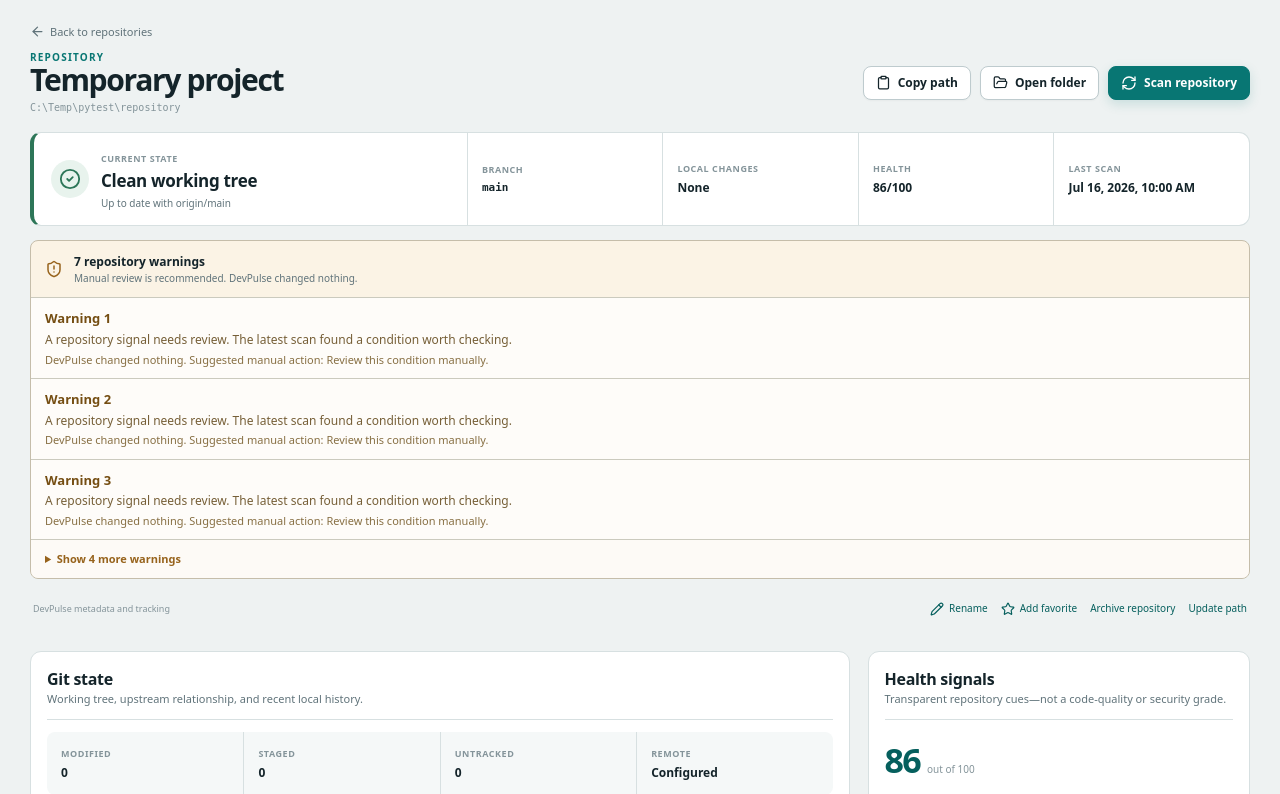
repository detail hierarchy › keeps a long warning list concise until the user asks for details
Expected: the text "7 repository warnings" is shown, [74,253,205,270]
Expected: the text "Warning 3" is shown, [45,470,111,488]
Click the heading "Show 4 more warnings": [73, 559] box [31,539,1249,578]
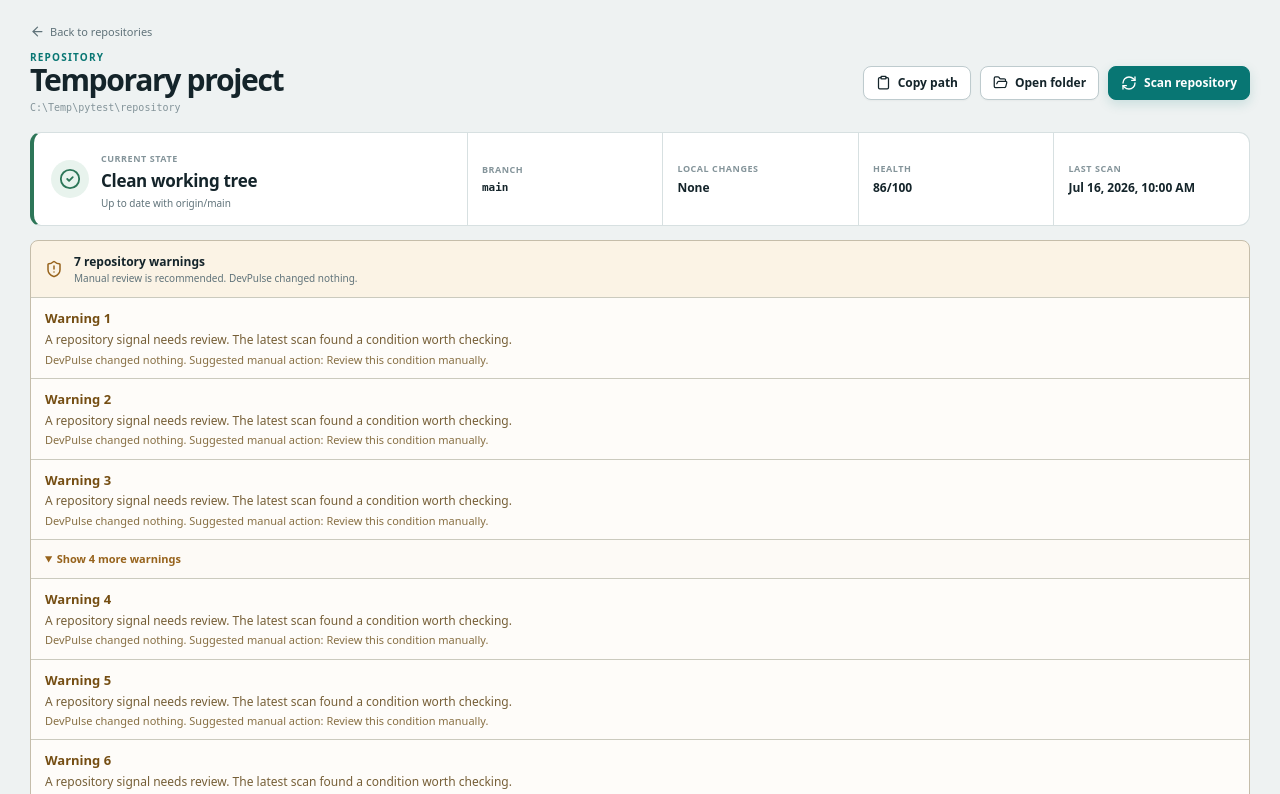
Result: the text "Warning 4" is shown at [45,590,111,608]
